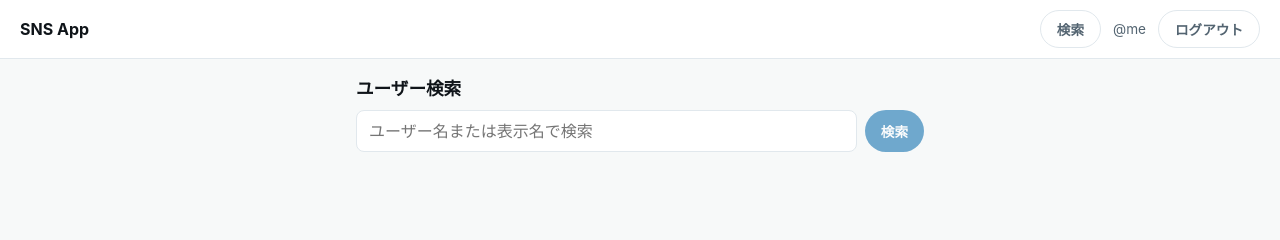
SearchPage › shows a no-results message when the search returns nothing
Type "zzz" into the field with placeholder "ユーザー名または表示名で検索" at {"x": 606, "y": 131}, box [356,110,857,152]
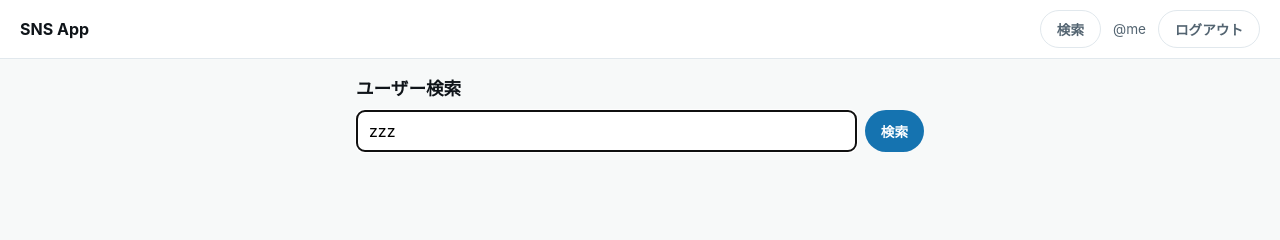
Click the button "検索" at {"x": 894, "y": 131}, box [865,110,924,152]
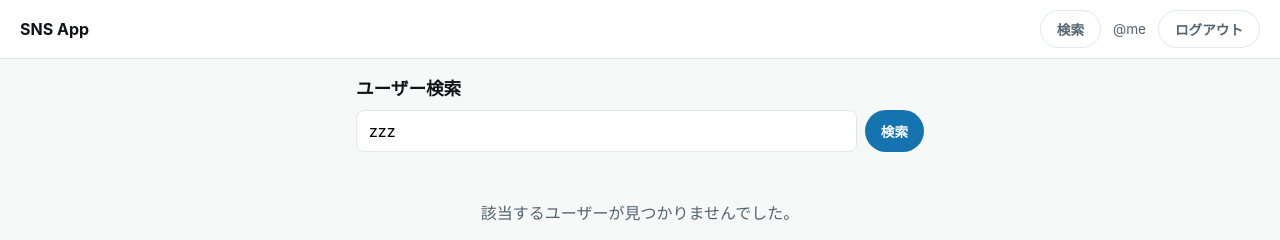
Now the text "該当するユーザーが見つかりませんでした。" is shown, box [481,203,799,223]
